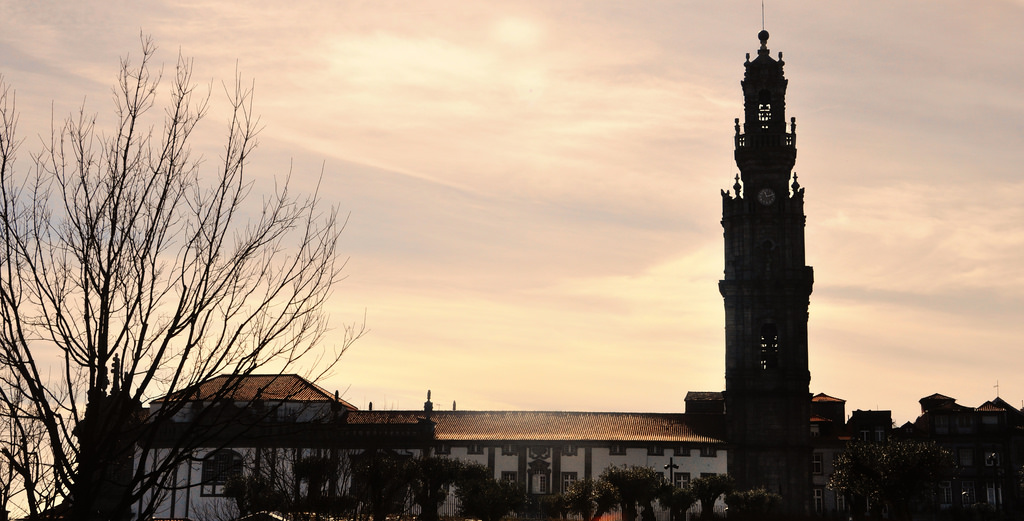clerigos: (717, 0, 815, 520)
